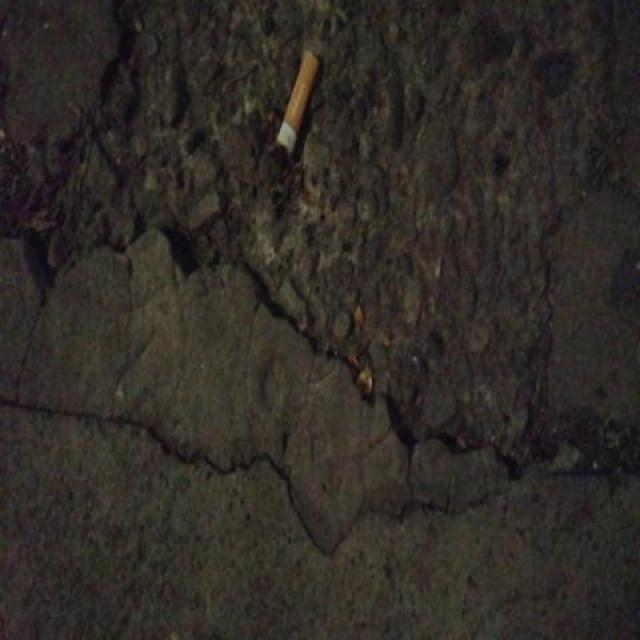non-organic waste: (272, 44, 324, 164)
